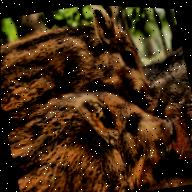boar: (0, 64, 191, 192), (0, 0, 166, 145)
